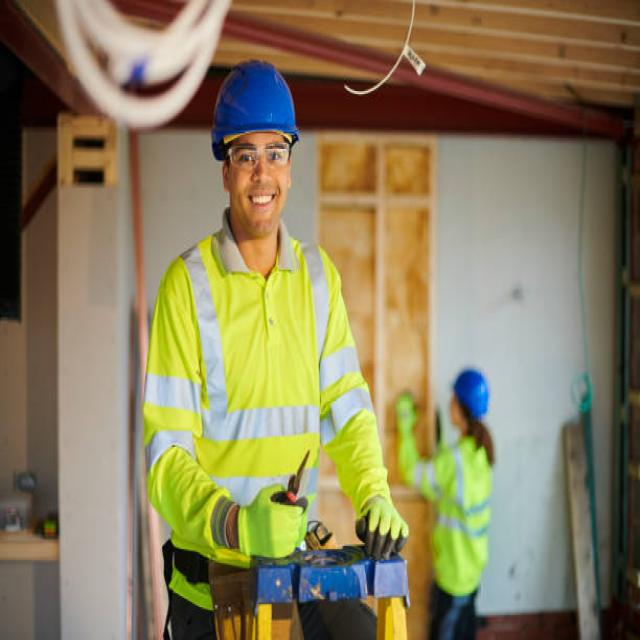gloves: (240, 482, 310, 560), (355, 491, 409, 562)
